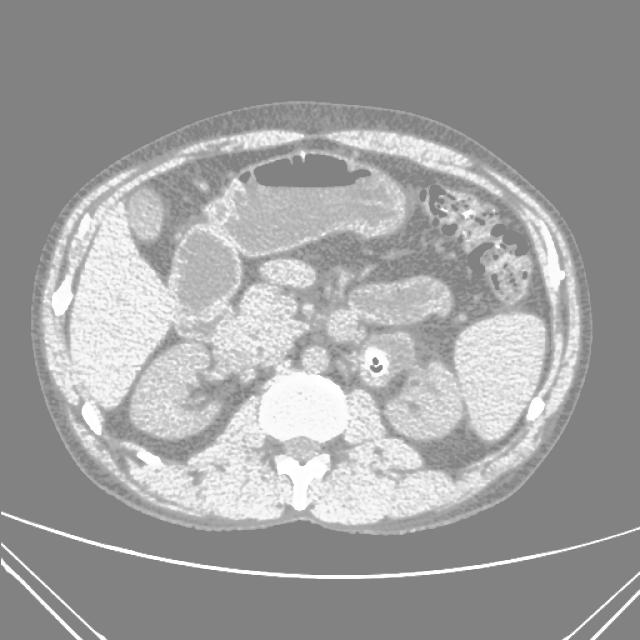STONE: (196, 120, 558, 335)
